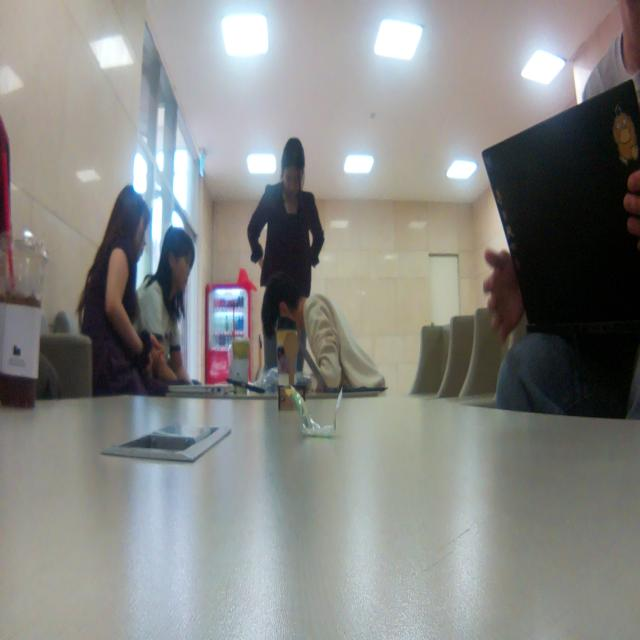target: (277, 330, 304, 410)
